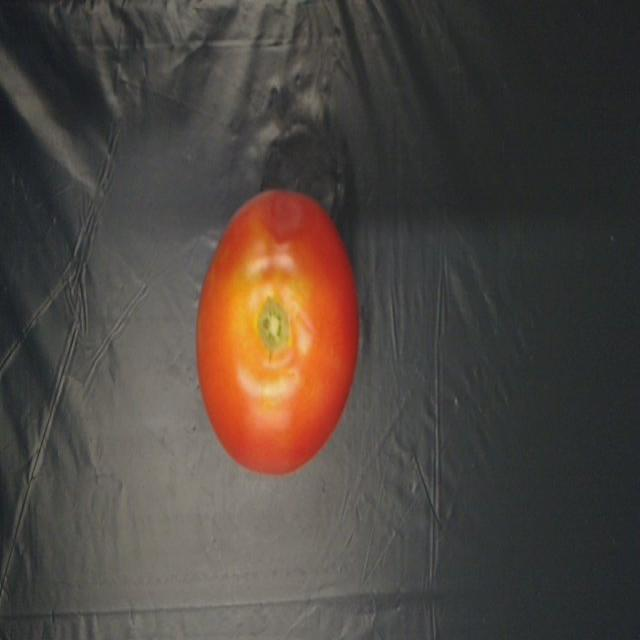sari: (167, 181, 369, 478)
